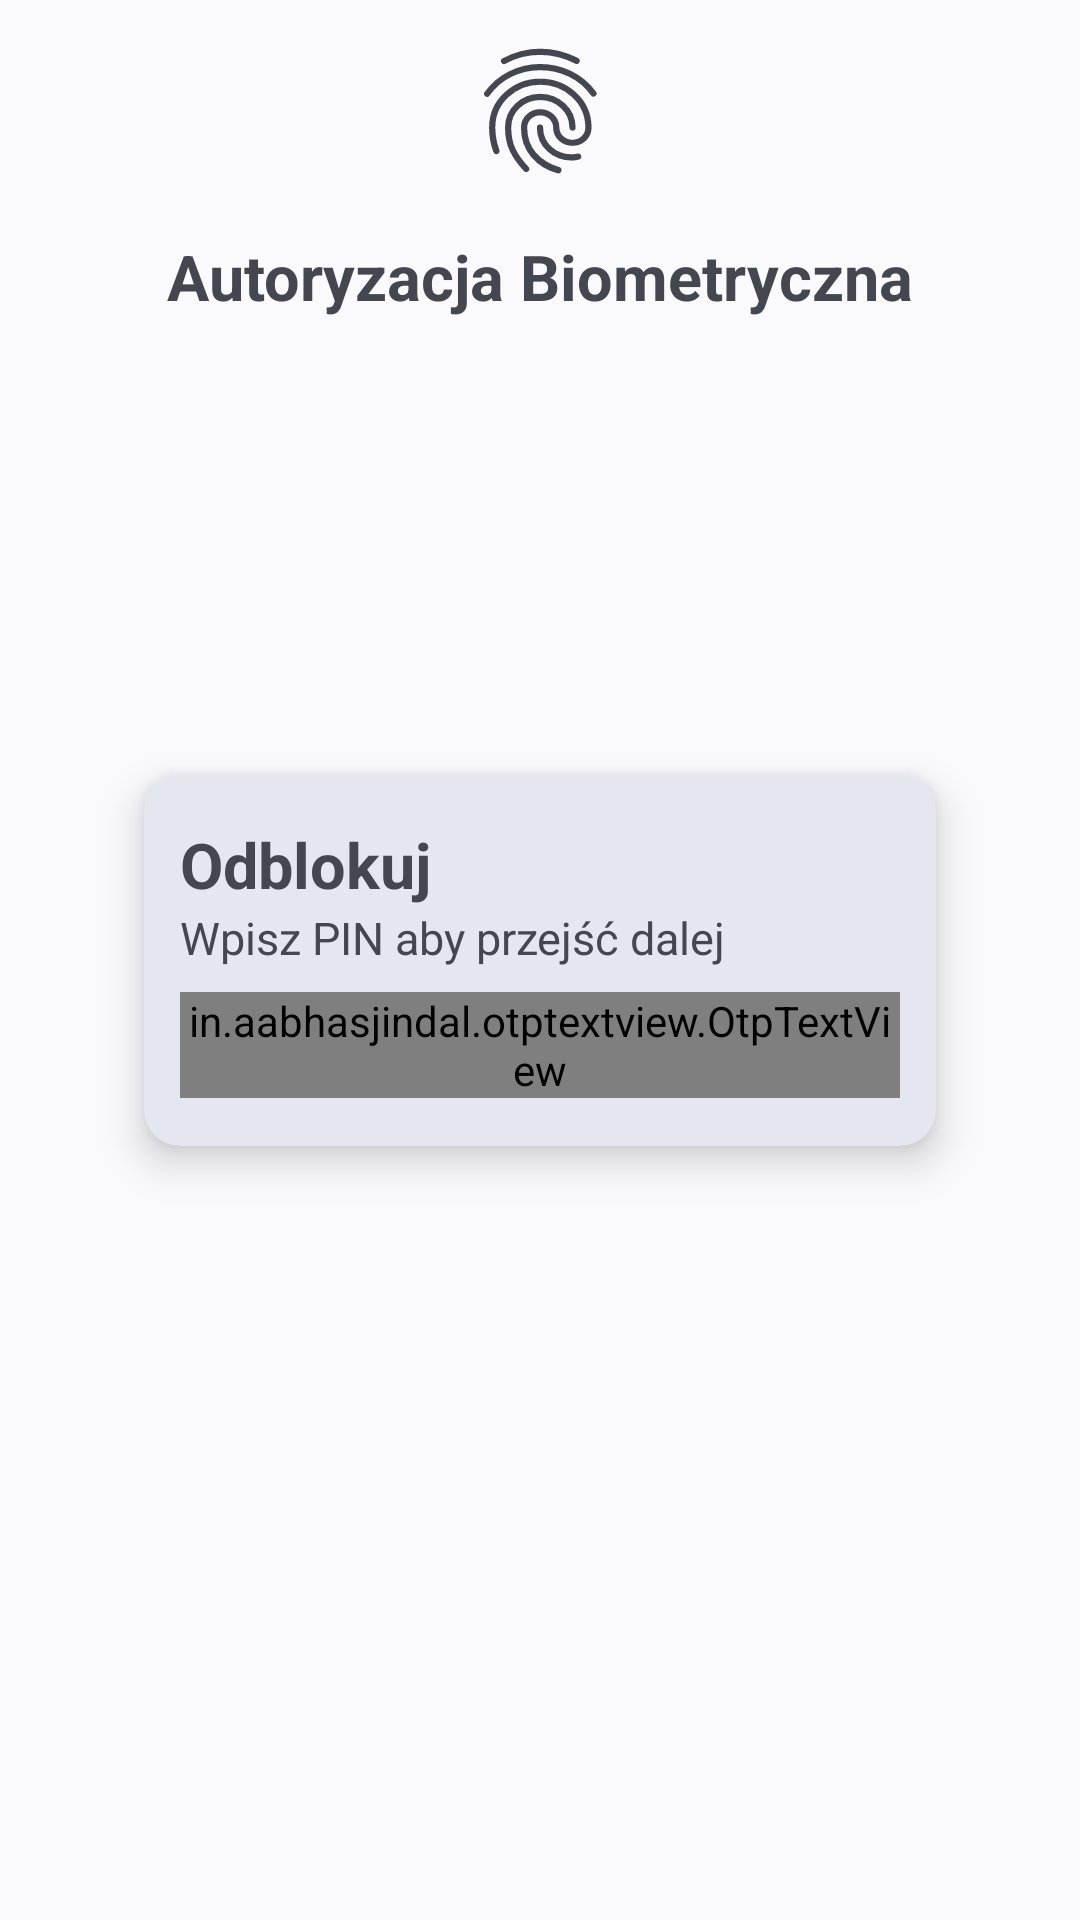

Icons on this 1080x1920 Android screen, each with the point to tap as [x,y]:
fingerprint wb: [540,111]
